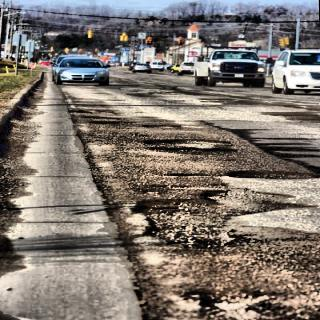pothole: (140, 184, 281, 256), (186, 284, 280, 320), (139, 136, 241, 158), (69, 105, 131, 128)
